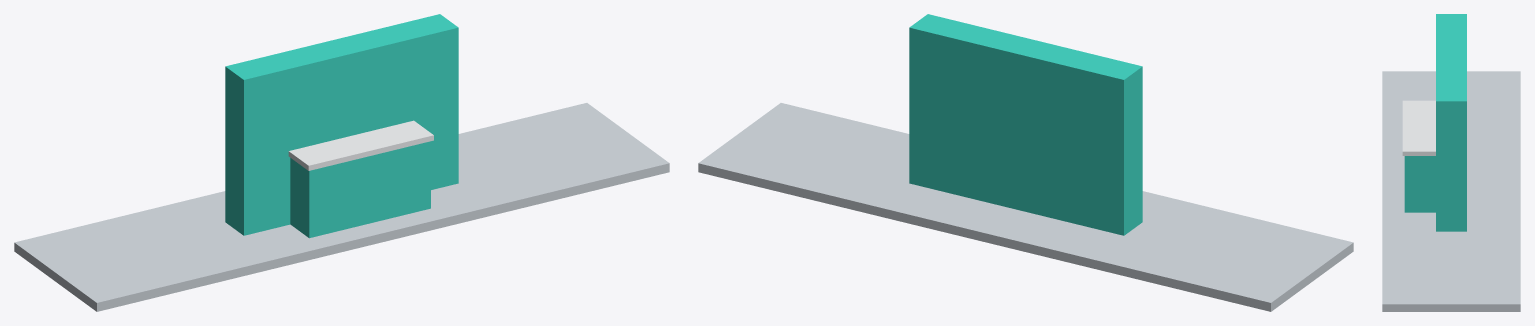
The picture shows the model from 3 angles, left to right: view 1: azimuth 30°, elevation 25°; view 2: azimuth 150°, elevation 25°; view 3: azimuth 270°, elevation 25°; orthographic projection. The views are drawn at different scales.
Parts seen in each view (by area): view 1: Exhibition Booth Concept; view 2: Exhibition Booth Concept; view 3: Exhibition Booth Concept.
Boxes of the visible parts, x1,y1,x2,y2 form: Exhibition Booth Concept: (14, 14, 669, 311); Exhibition Booth Concept: (698, 14, 1353, 311); Exhibition Booth Concept: (1382, 14, 1520, 311).
Size of the model in its own units: 8 by 2.2 by 2.
